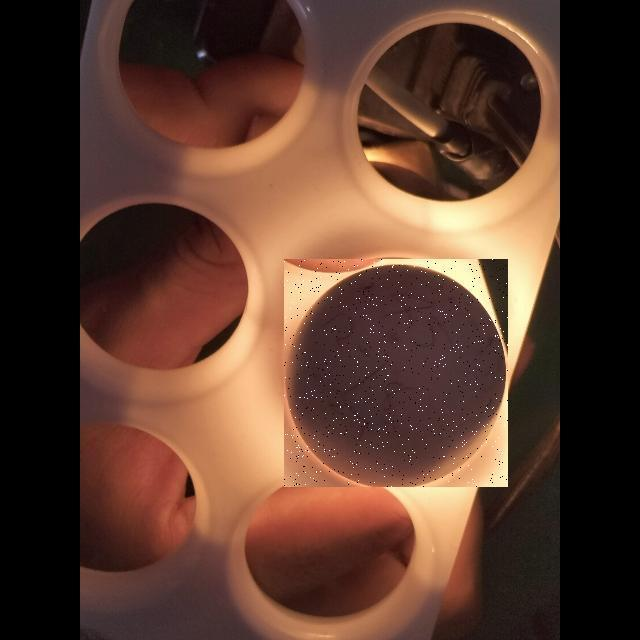AA - Premium: (283, 260, 508, 484)
